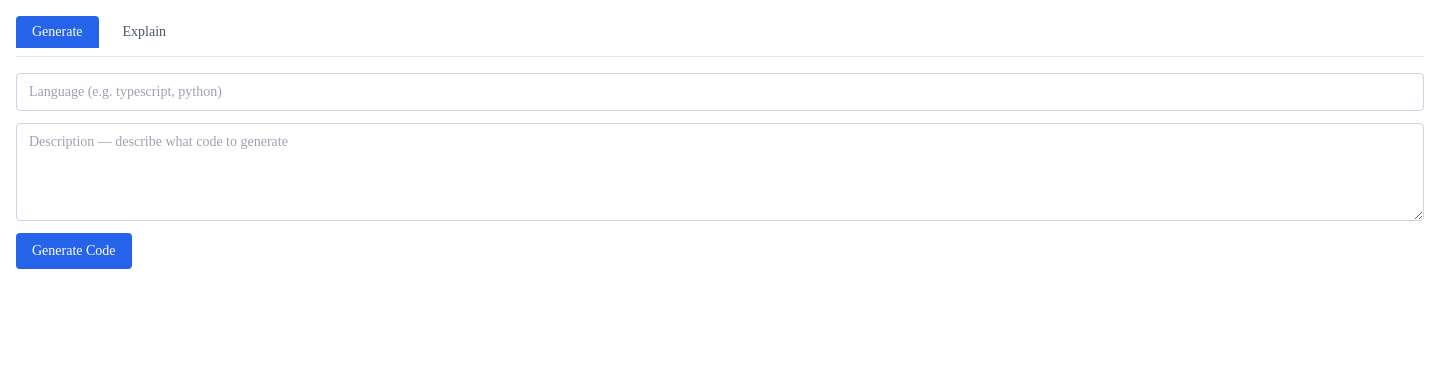
CodeAssistant › switches to Explain tab when clicked
The image size is (1440, 366).
Click the button "Explain" at [144, 32], box [106,16,182,48]
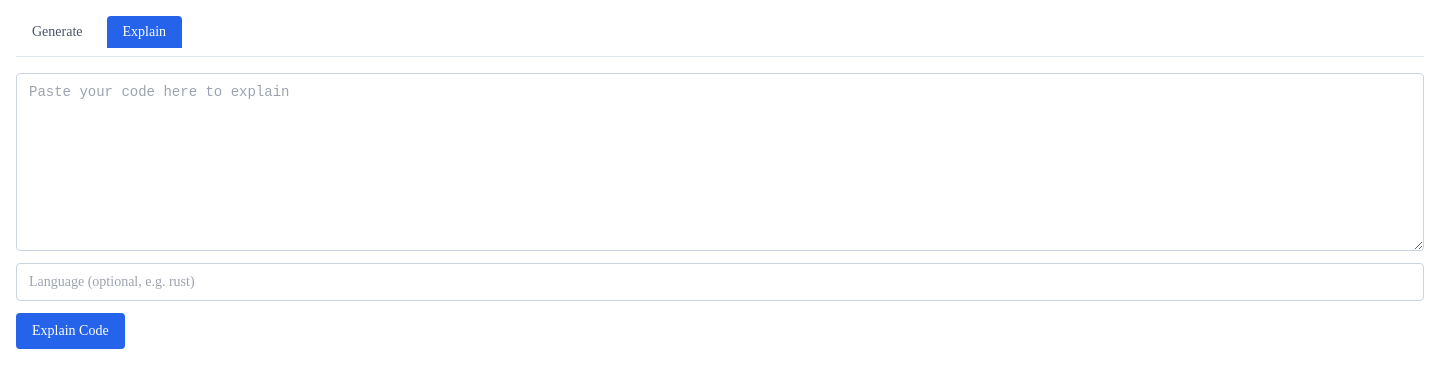
Expected: the text box with placeholder "Paste your code here to explain" is shown, [16,73,1424,251]
